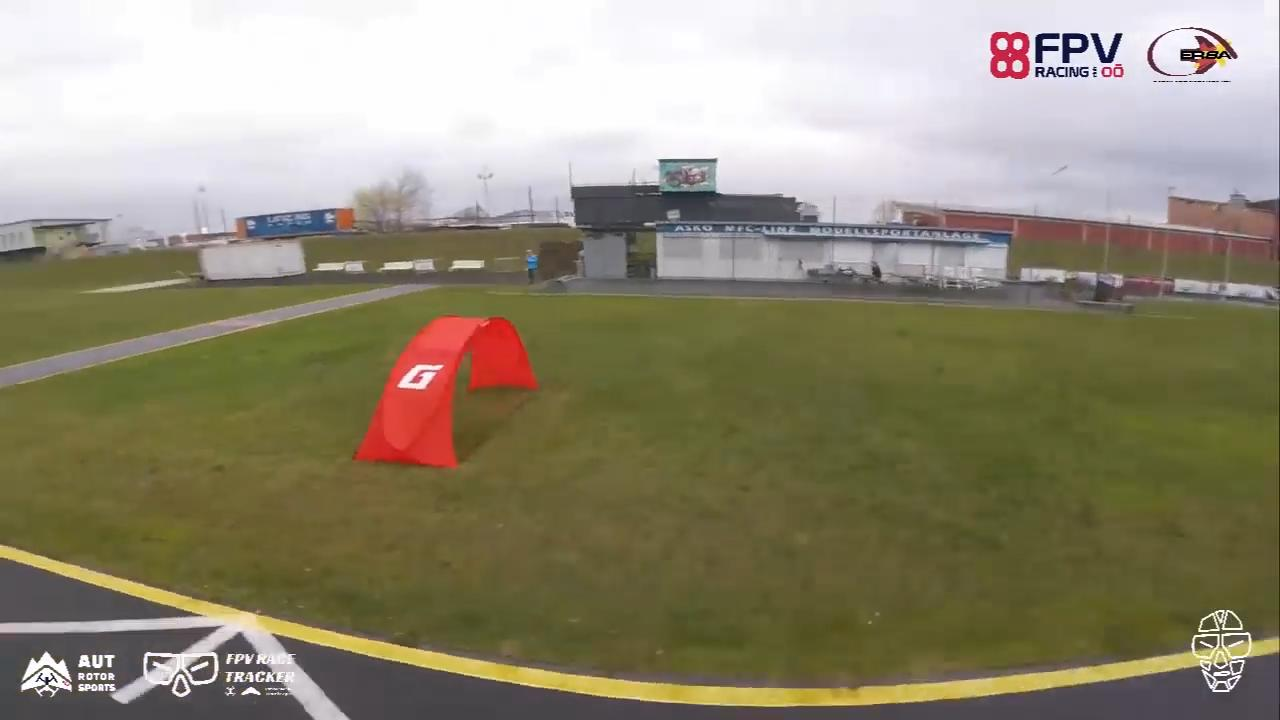gate: (350, 314, 546, 470)
